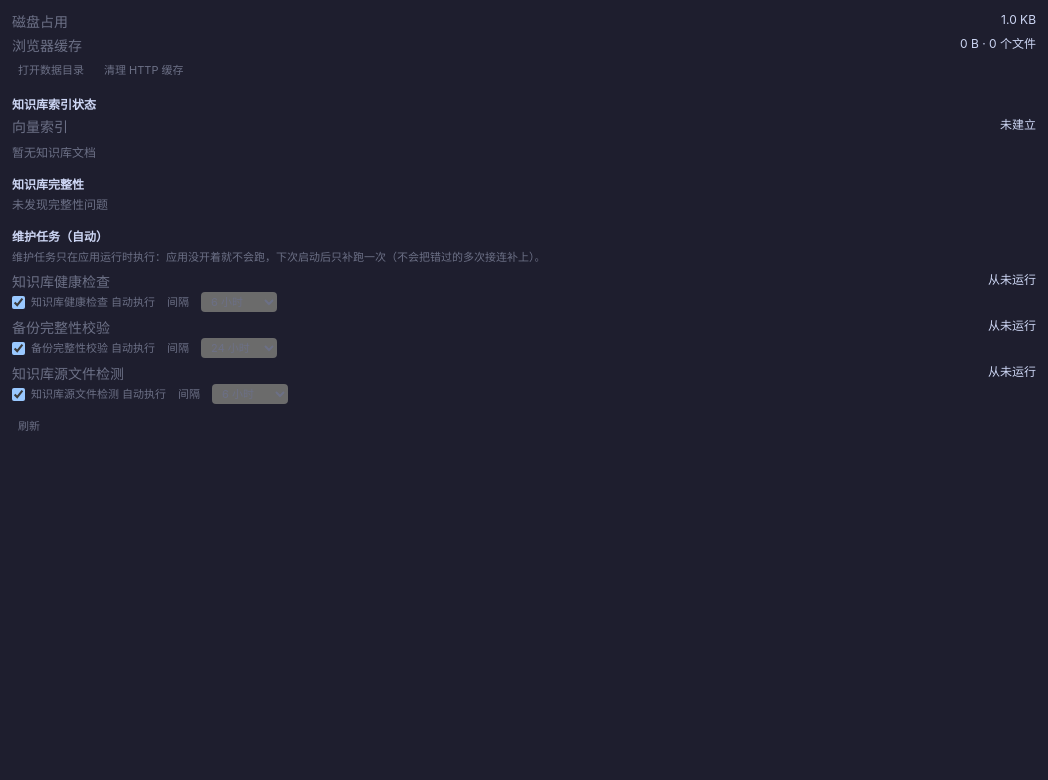
Test: ③ 主进程拒了就如实说，屏上不许跟着变 › 非法间隔被拒：下拉退回原值，并弹出原因
This screenshot has width=1048, height=780.
Step 1. Select "12 小时" in the dropdown with test id "dh-task-interval-kb_health_check" → [239, 302], box [201,292,277,312]
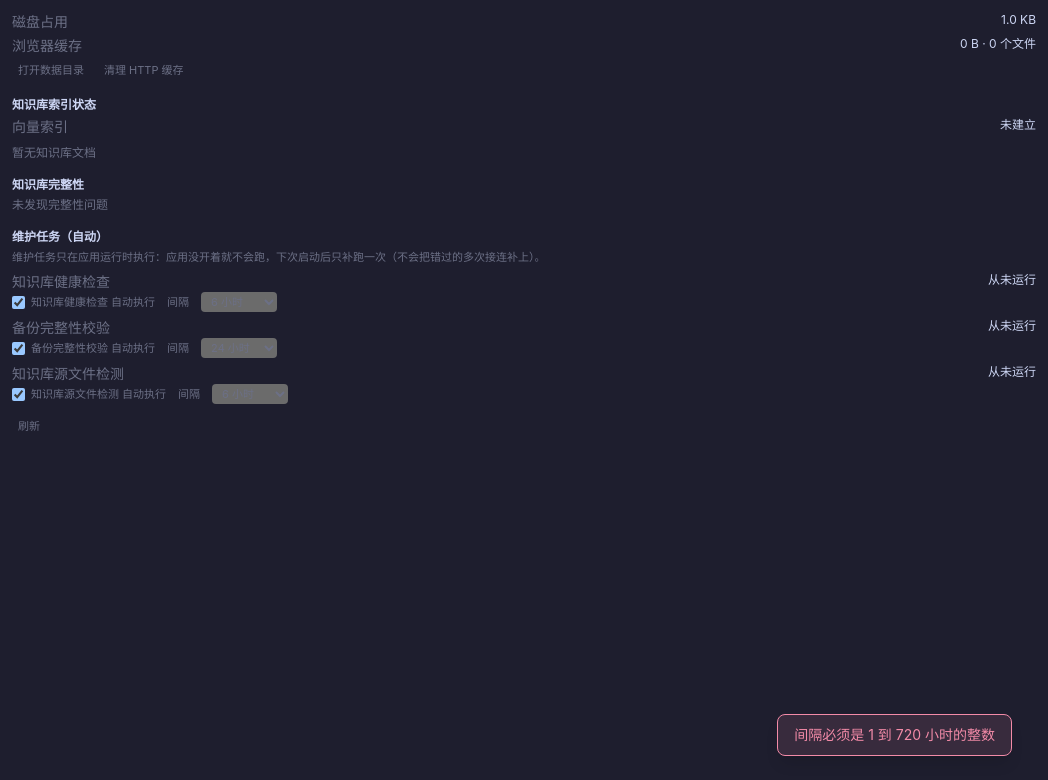
Now the text "间隔必须是 1 到 720 小时的整数" is shown, box [777,714,1012,756]
